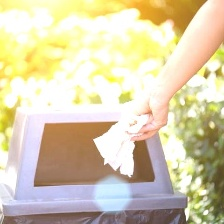tissue: (89, 95, 159, 182)
